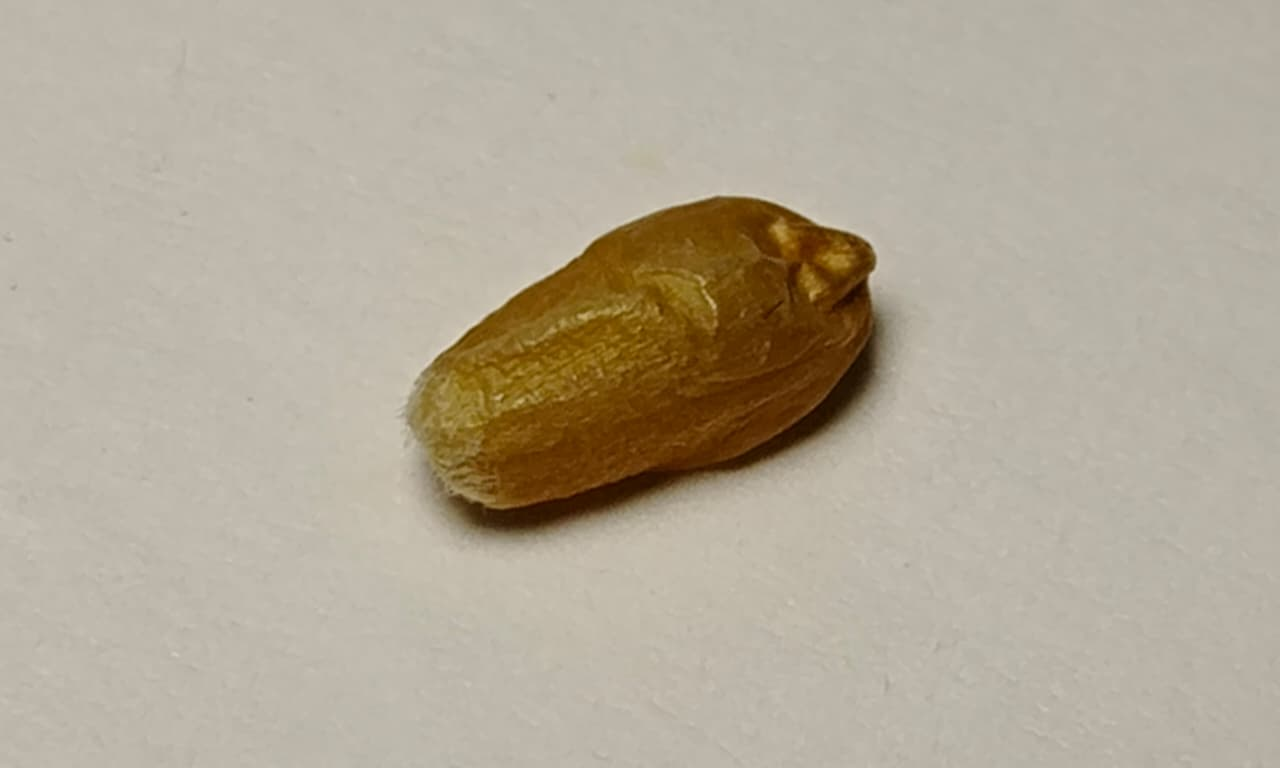healthy: (408, 197, 875, 512)
